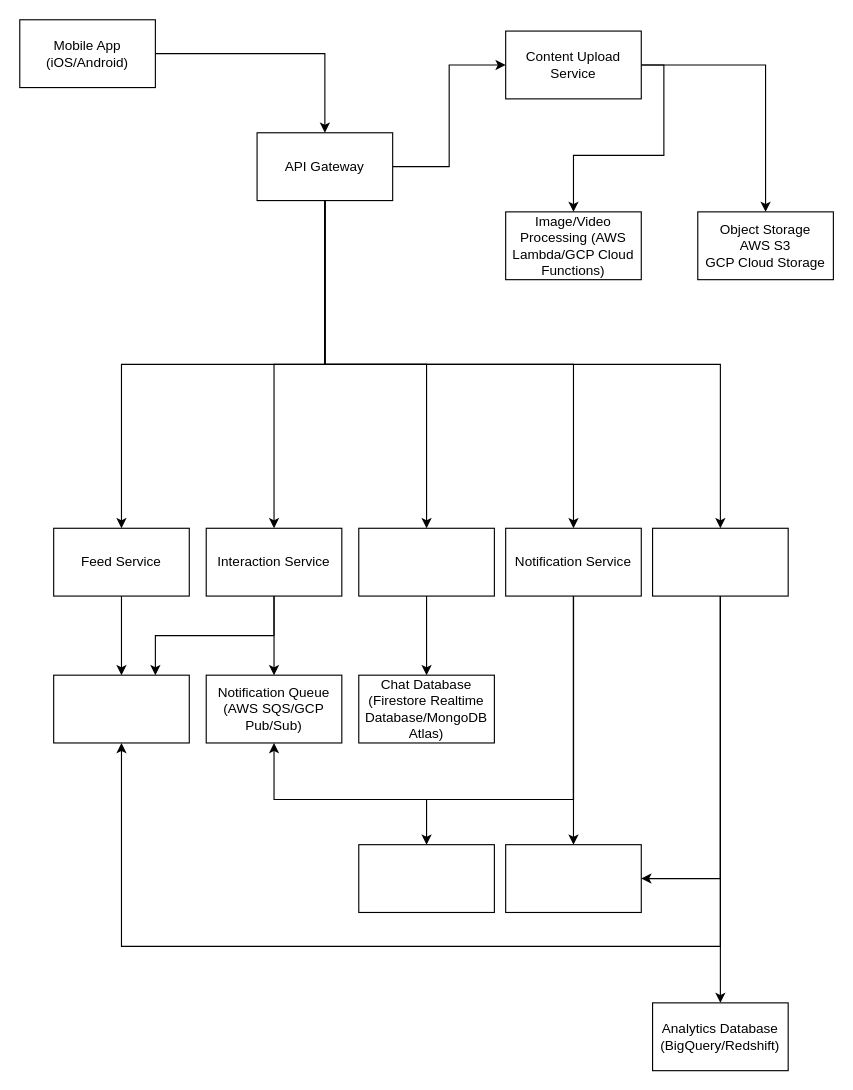
The diagram is 853 pixels wide and 1090 high, and some of its shapes have lost their labels. Each missing label, with the box of its shape:
Analytics Service: (651, 527, 788, 596)
Content Database (DynamoDB/Firestore): (53, 674, 189, 743)
Email Service (SendGrid/AWS SES): (505, 844, 641, 912)
Messaging Service: (358, 527, 494, 596)
Push Notification Service (Firebase/APNS/FCM): (358, 844, 494, 912)
